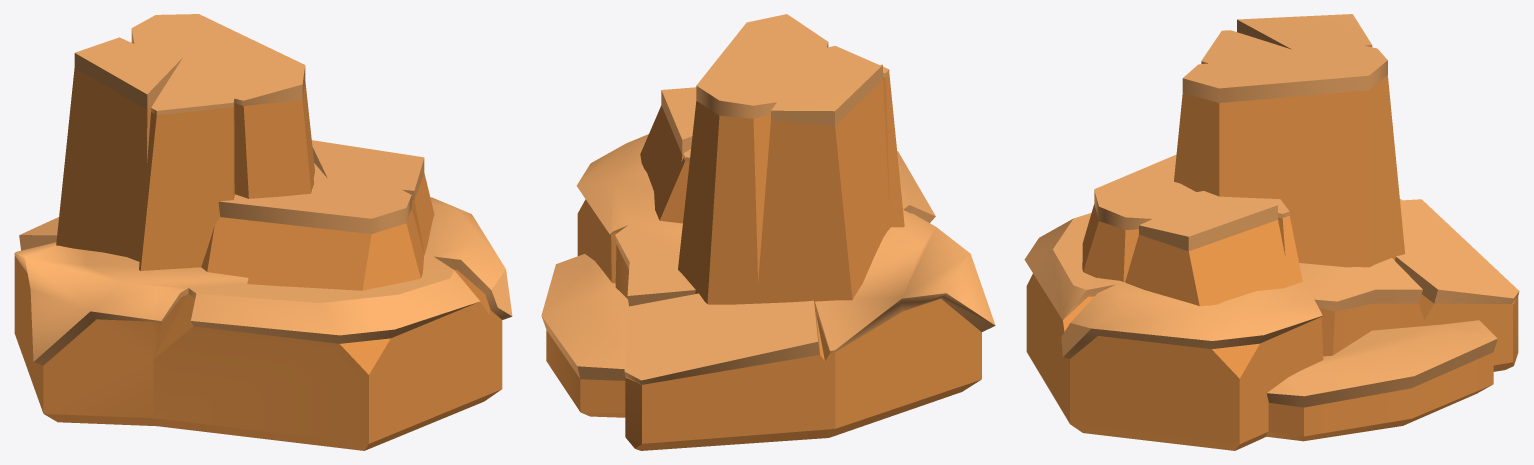
File: Rock_10.fbx
3 renders of one model, left to right at view 1: azimuth 30°, elevation 25°; view 2: azimuth 150°, elevation 25°; view 3: azimuth 270°, elevation 25°, orthographic. The views are drawn at different scales.
Parts seen in each view (by area): view 1: Rock_10, Rock_10_Snow; view 2: Rock_10, Rock_10_Snow; view 3: Rock_10, Rock_10_Snow.
Part boxes in pixels (bbox=[...]): Rock_10: bbox=[14, 42, 502, 450]; Rock_10_Snow: bbox=[14, 14, 512, 365]; Rock_10: bbox=[546, 74, 981, 450]; Rock_10_Snow: bbox=[541, 14, 995, 384]; Rock_10: bbox=[1026, 75, 1518, 450]; Rock_10_Snow: bbox=[1024, 14, 1519, 407].
Size of the model in its own units: 276 by 196 by 292.
